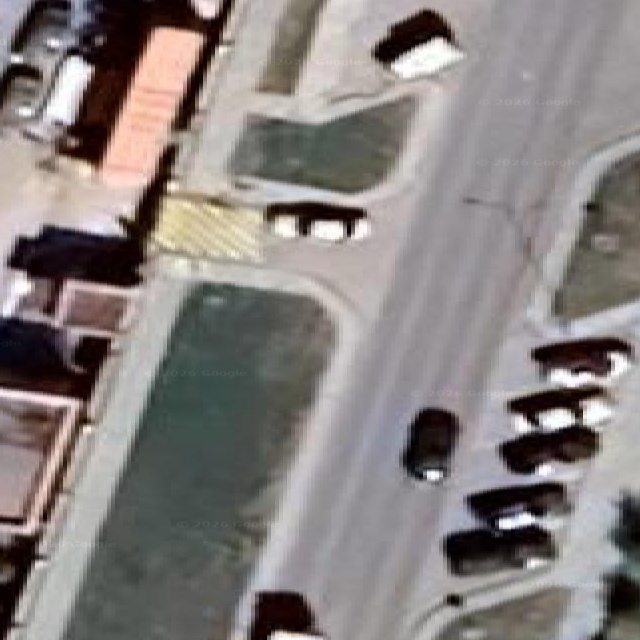car: (372, 10, 463, 79), (443, 526, 556, 575), (531, 337, 633, 386), (466, 482, 570, 530), (507, 385, 613, 432), (499, 426, 598, 474), (401, 408, 459, 482), (265, 201, 369, 241), (248, 591, 321, 639), (268, 631, 324, 639)
